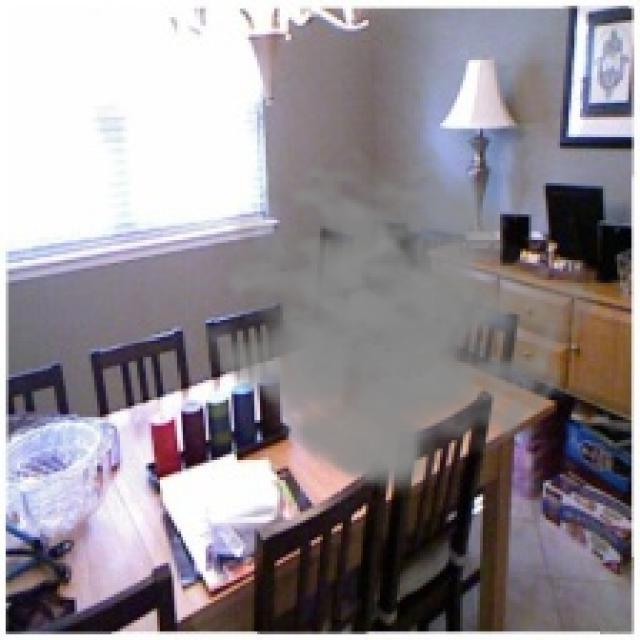smoke: (183, 143, 606, 497)
